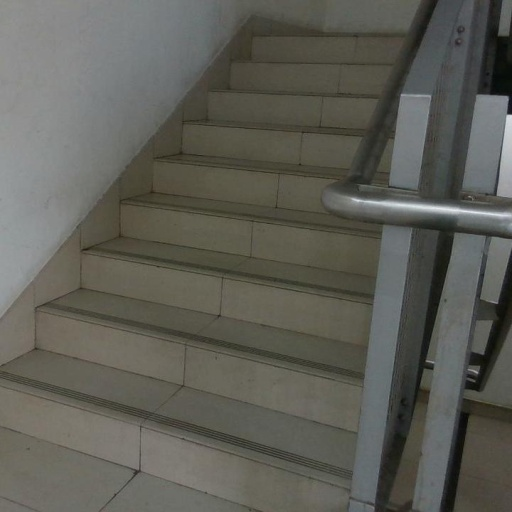Stairs: (0, 19, 402, 512)
